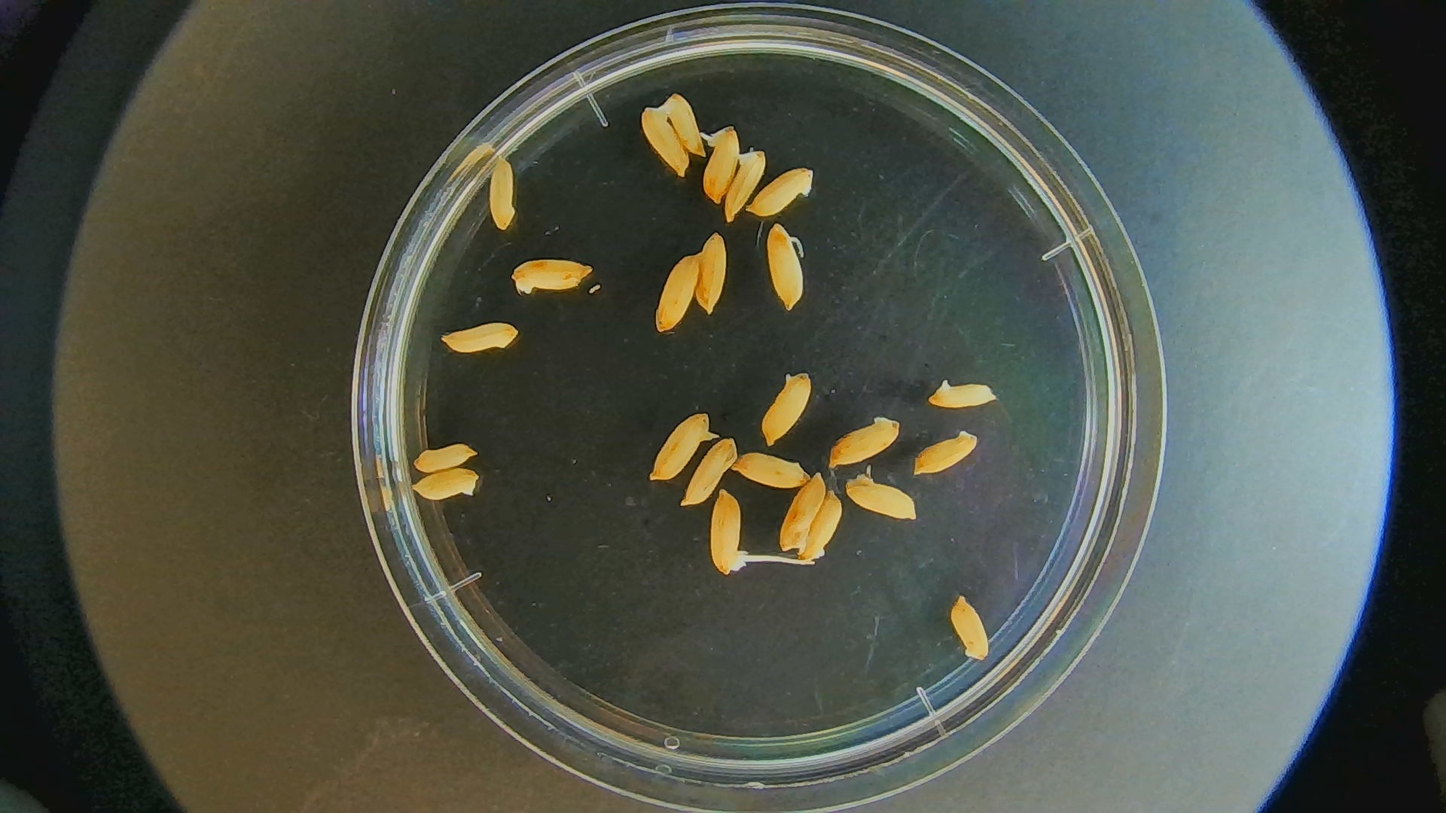no: (842, 466, 919, 522), (680, 437, 740, 507), (827, 415, 903, 470), (760, 371, 814, 447), (778, 474, 827, 554), (744, 166, 816, 218), (656, 253, 700, 333), (641, 105, 690, 176), (911, 429, 980, 477), (510, 256, 593, 294), (947, 595, 993, 662), (725, 149, 769, 219), (661, 88, 706, 156), (441, 320, 522, 357), (734, 452, 808, 489), (697, 231, 729, 312), (487, 151, 518, 230), (928, 376, 999, 410), (414, 469, 479, 500), (415, 443, 480, 474)
yes: (648, 413, 721, 480), (766, 223, 806, 310), (710, 488, 749, 575), (700, 122, 736, 200)
